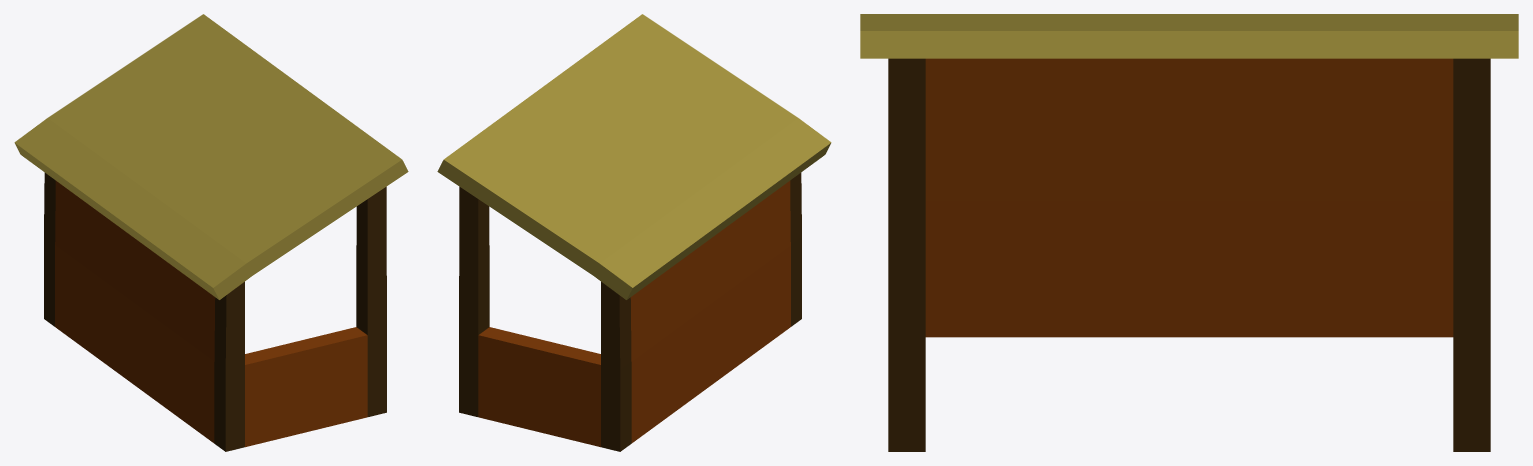
File: Drovnitsa.fbx
The picture shows the model from 3 angles, left to right: view 1: azimuth 30°, elevation 25°; view 2: azimuth 150°, elevation 25°; view 3: azimuth 270°, elevation 25°; orthographic projection. The views are drawn at different scales.
Visible parts, largest first — view 1: Drovnitsa; view 2: Drovnitsa; view 3: Drovnitsa.
Boxes of the visible parts, <box> form: Drovnitsa: <box>14,14,408,451</box>; Drovnitsa: <box>437,14,831,451</box>; Drovnitsa: <box>860,14,1518,451</box>.
Size of the model in its own units: 356 by 448 by 627.
